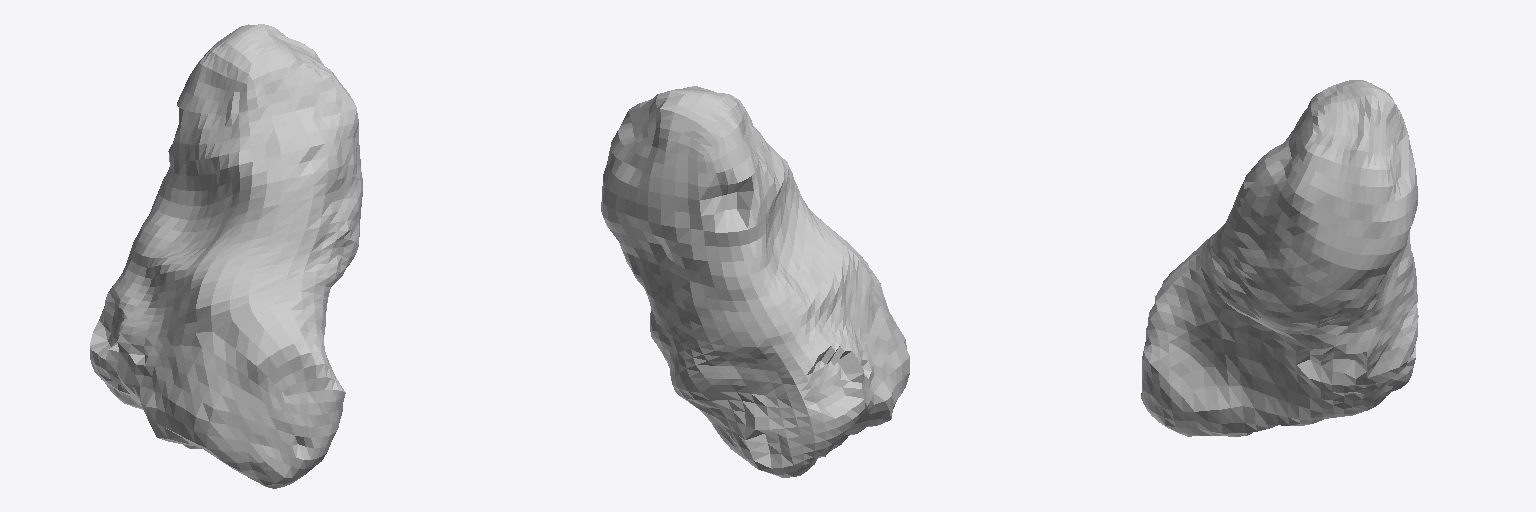
Rendered from asteroid.obj.
The picture shows the model from 3 angles: view 1: azimuth 30°, elevation 25°; view 2: azimuth 150°, elevation 25°; view 3: azimuth 270°, elevation 25°; orthographic projection.
Visible parts, largest first — view 1: 2.001; view 2: 2.001; view 3: 2.001.
Boxes of the visible parts, x1=… form: 2.001: x1=90, y1=24, x2=362, y2=488; 2.001: x1=601, y1=86, x2=909, y2=477; 2.001: x1=1141, y1=80, x2=1418, y2=436.
Size of the model in its own units: 6.76 by 9.76 by 6.57.